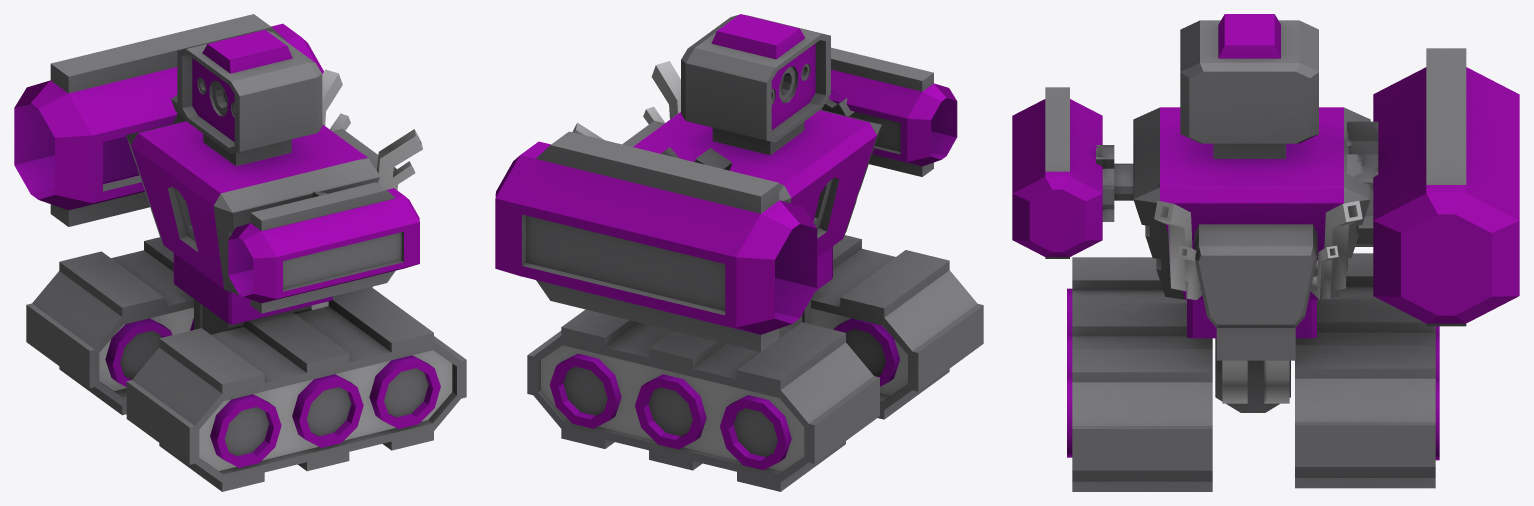
The model's file is Enemy2_Attack14.obj.
3 renders of one model, left to right at view 1: azimuth 30°, elevation 25°; view 2: azimuth 150°, elevation 25°; view 3: azimuth 270°, elevation 25°, orthographic. The views are drawn at different scales.
Visible parts, largest first — view 1: Object006, Object007, Object011, Object010; view 2: Object006, Object011, Object007, Object010, Object009; view 3: Object006, Object007, Object011, Object010, Object009, Object008.
Boxes of the visible parts, x1=… form: Object006: x1=26, y1=182, x2=466, y2=491; Object007: x1=126, y1=30, x2=379, y2=334; Object011: x1=14, y1=14, x2=323, y2=226; Object010: x1=311, y1=69, x2=422, y2=309; Object006: x1=527, y1=47, x2=983, y2=491; Object011: x1=495, y1=131, x2=817, y2=351; Object007: x1=633, y1=14, x2=881, y2=329; Object010: x1=572, y1=61, x2=680, y2=146; Object009: x1=661, y1=147, x2=732, y2=170; Object006: x1=1012, y1=87, x2=1439, y2=491; Object007: x1=1133, y1=14, x2=1370, y2=412; Object011: x1=1373, y1=48, x2=1519, y2=326; Object010: x1=1154, y1=200, x2=1362, y2=403; Object009: x1=1347, y1=121, x2=1378, y2=246; Object008: x1=1096, y1=145, x2=1133, y2=221.
Bounding box in the file's own units: 88.69 × 109 × 124.
